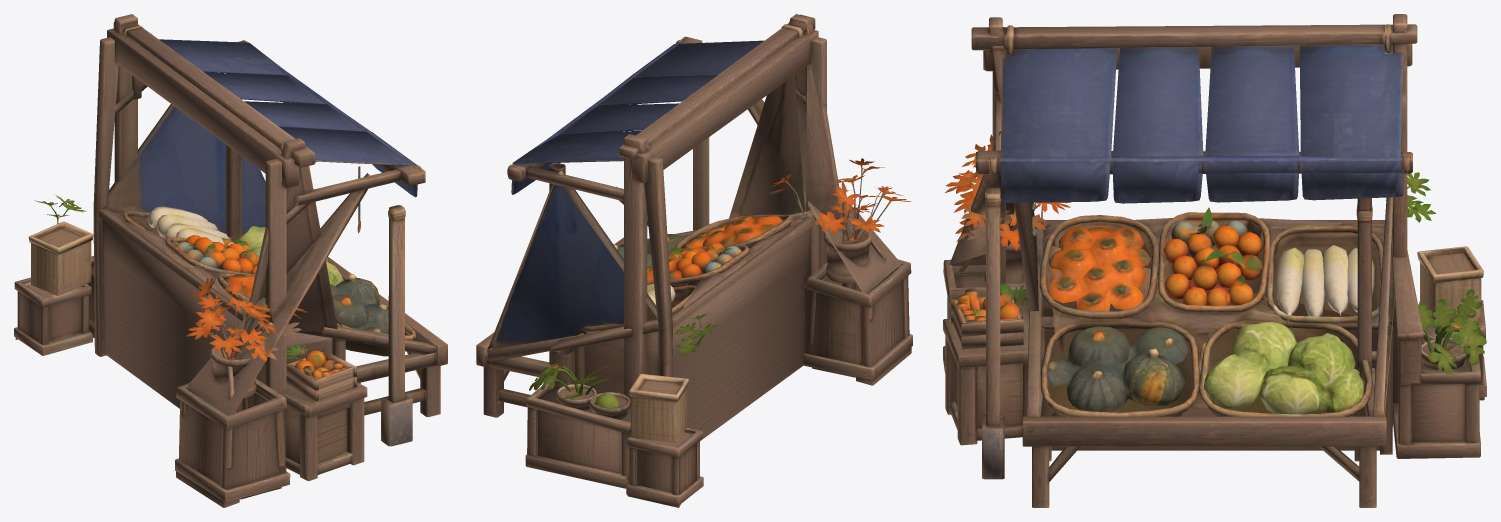
Rendered from produce_stand.glb.
The picture shows the model from 3 angles, left to right: view 1: azimuth 30°, elevation 25°; view 2: azimuth 150°, elevation 25°; view 3: azimuth 270°, elevation 25°; orthographic projection. The views are drawn at different scales.
Visible parts, largest first — view 1: tripo_node_4deee7e8-7d0b-4edc-97db-55ae6757a469; view 2: tripo_node_4deee7e8-7d0b-4edc-97db-55ae6757a469; view 3: tripo_node_4deee7e8-7d0b-4edc-97db-55ae6757a469.
Part boxes in pixels (x1,y1,x2,y2): tripo_node_4deee7e8-7d0b-4edc-97db-55ae6757a469: [14, 14, 447, 507]; tripo_node_4deee7e8-7d0b-4edc-97db-55ae6757a469: [476, 14, 912, 507]; tripo_node_4deee7e8-7d0b-4edc-97db-55ae6757a469: [943, 14, 1486, 507].
Size of the model in its own units: 0.6782 by 0.813 by 0.9995.
1 material, 1 textured.
